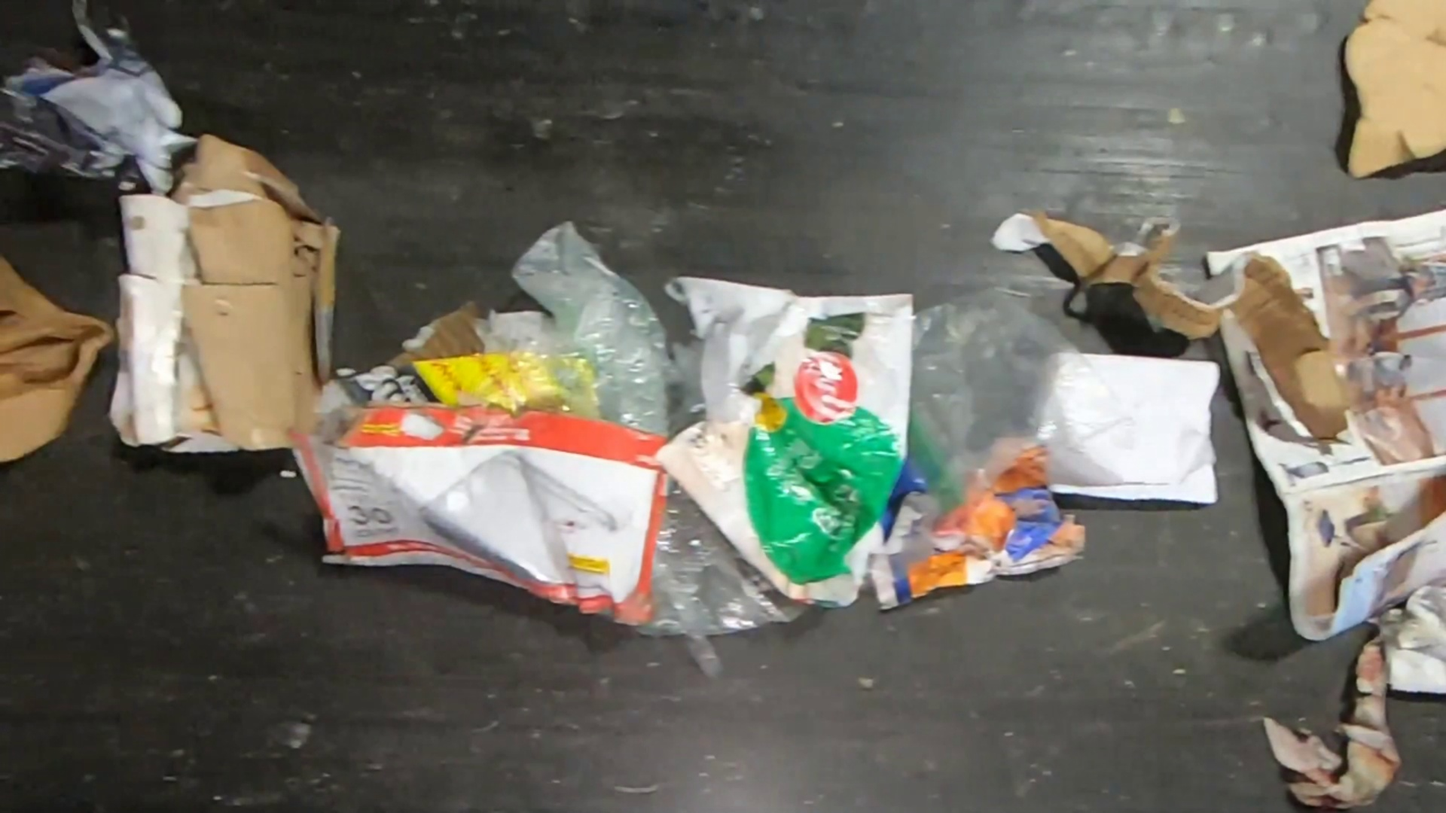cardboard: (287, 402, 674, 627), (988, 210, 1350, 449), (103, 135, 345, 459), (310, 298, 485, 439), (1340, 0, 1446, 186)
plastic: (653, 273, 917, 609), (446, 220, 707, 438), (909, 277, 1138, 519), (635, 481, 816, 679)
